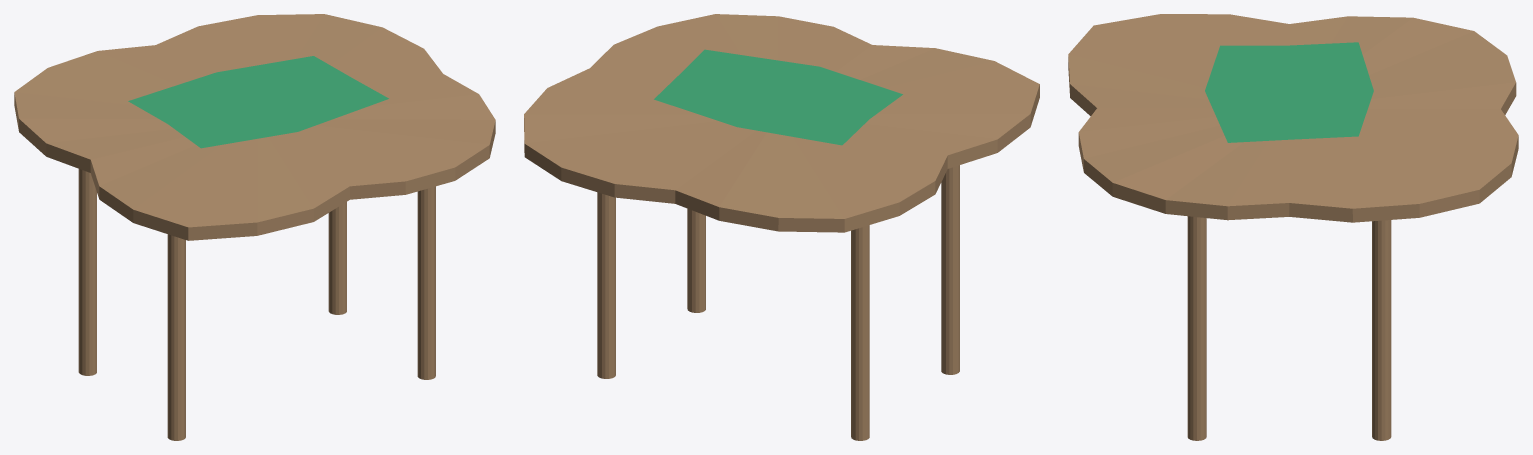
The model's file is mesa_v3_con_carta.glb.
3 views of the same model, side by side, from view 1: azimuth 30°, elevation 25°; view 2: azimuth 150°, elevation 25°; view 3: azimuth 270°, elevation 25° (orthographic). The views are drawn at different scales.
Visible parts, largest first — view 1: Tapa_Organica_V3, Fieltro_V3, Pata_V1_1, Pata_V1_3, Pata_V1_2, Pata_V1_4; view 2: Tapa_Organica_V3, Fieltro_V3, Pata_V1_3, Pata_V1_1, Pata_V1_4, Pata_V1_2; view 3: Tapa_Organica_V3, Fieltro_V3, Pata_V1_2, Pata_V1_4.
Boxes of the visible parts, <box> form: Tapa_Organica_V3: <box>14,14,495,240</box>; Fieltro_V3: <box>128,56,388,148</box>; Pata_V1_1: <box>167,234,185,440</box>; Pata_V1_3: <box>78,169,96,375</box>; Pata_V1_2: <box>417,186,435,379</box>; Pata_V1_4: <box>328,202,346,314</box>; Tapa_Organica_V3: <box>524,14,1039,232</box>; Fieltro_V3: <box>654,49,902,145</box>; Pata_V1_3: <box>851,225,869,440</box>; Pata_V1_1: <box>941,165,959,374</box>; Pata_V1_4: <box>597,192,615,378</box>; Pata_V1_2: <box>687,208,705,312</box>; Tapa_Organica_V3: <box>1068,14,1518,222</box>; Fieltro_V3: <box>1205,42,1373,142</box>; Pata_V1_2: <box>1187,216,1206,440</box>; Pata_V1_4: <box>1372,220,1391,440</box>.
Bounding box in the file's own units: 1.2 × 0.811 × 1.17.
